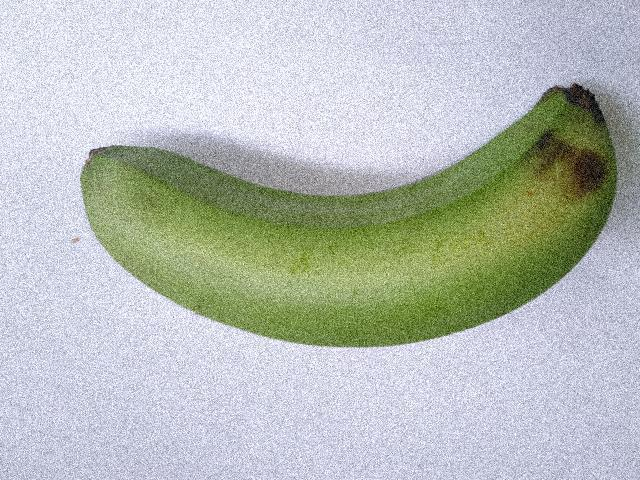freshunripe: (70, 75, 621, 365)
